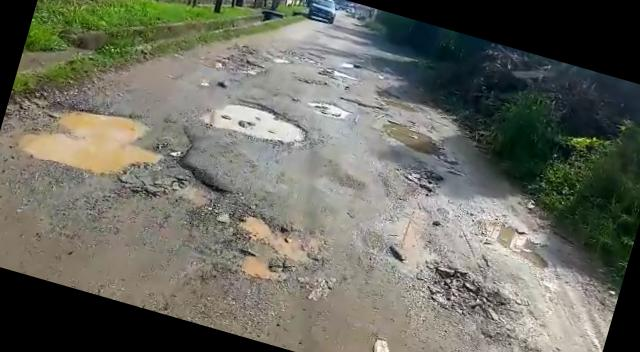pothole: (0, 77, 248, 220), (200, 204, 332, 298), (411, 258, 524, 333), (202, 90, 318, 156), (467, 212, 561, 273), (379, 118, 450, 162), (198, 44, 266, 84), (308, 96, 350, 121), (380, 96, 420, 116)
